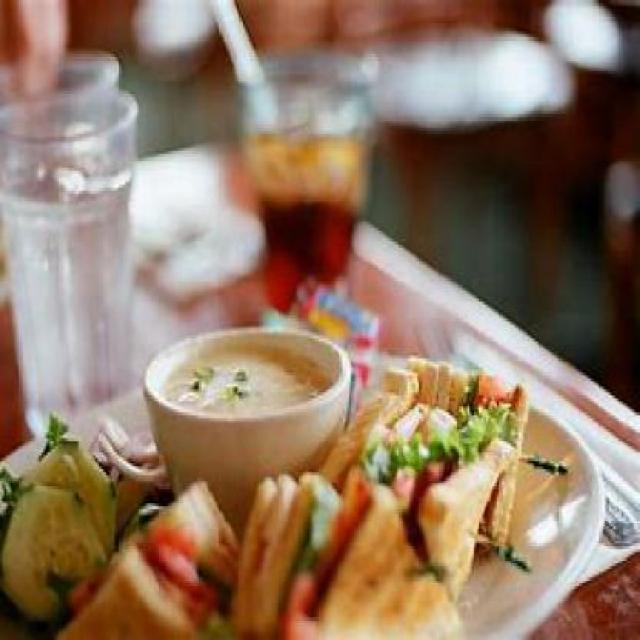clam chowder: (152, 318, 350, 472)
club sandwich: (84, 352, 550, 637)
